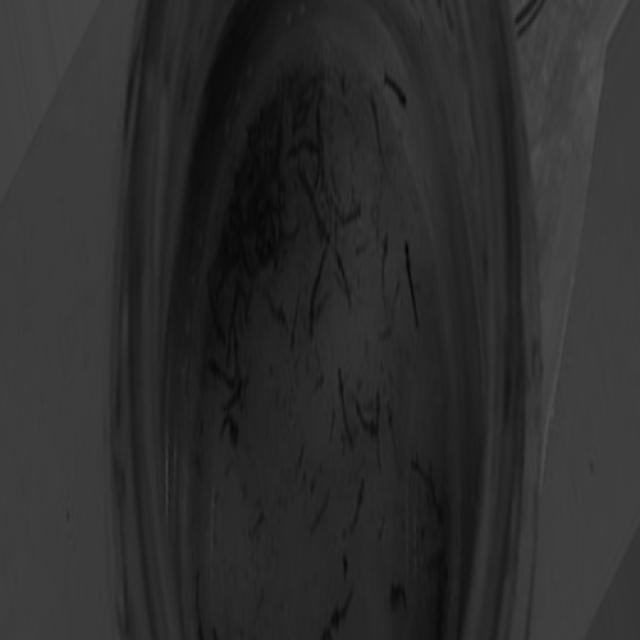larvas: (308, 250, 327, 334), (304, 174, 328, 238), (206, 277, 225, 344), (336, 370, 353, 443), (405, 243, 420, 324), (314, 102, 325, 186), (193, 572, 206, 640), (310, 490, 331, 532), (332, 590, 354, 628), (373, 393, 383, 473), (349, 480, 365, 530), (384, 402, 400, 450), (338, 250, 352, 304), (431, 460, 444, 518), (226, 286, 236, 360), (222, 378, 245, 410), (370, 99, 384, 151), (380, 234, 390, 304), (354, 406, 376, 434), (213, 360, 237, 384), (289, 298, 300, 347), (386, 79, 406, 104), (221, 412, 239, 439), (268, 295, 285, 322), (282, 217, 299, 244), (242, 248, 257, 278), (334, 209, 360, 225), (290, 141, 315, 156), (392, 582, 406, 606), (415, 463, 429, 480), (232, 332, 240, 358), (378, 518, 386, 540)
